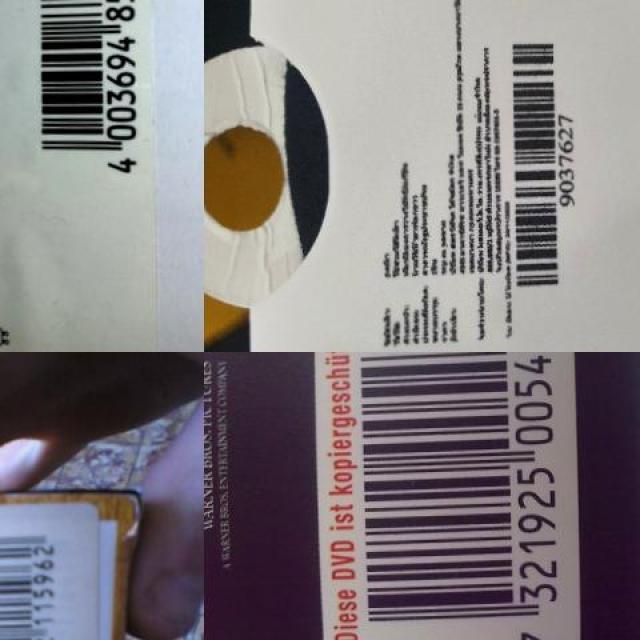Barcode: (311, 352, 580, 640), (22, 0, 146, 187), (509, 26, 576, 302), (0, 510, 94, 640)
